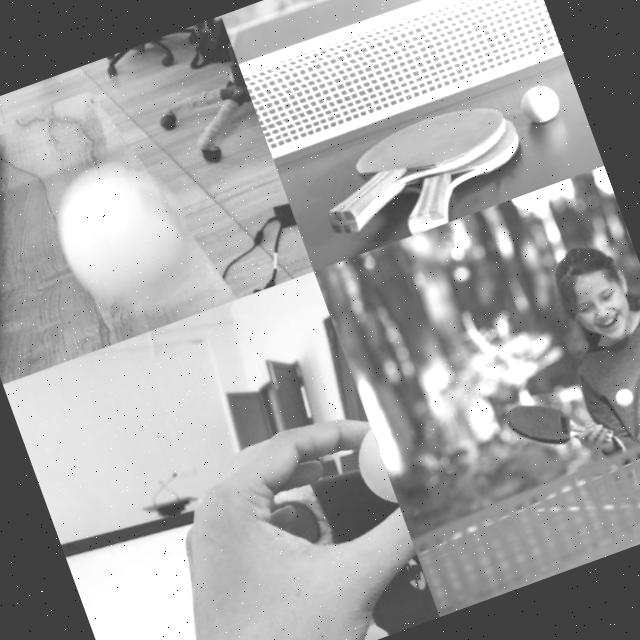ping-pong-ball: (39, 146, 202, 324), (344, 422, 398, 515), (514, 80, 564, 130), (611, 385, 634, 408)
